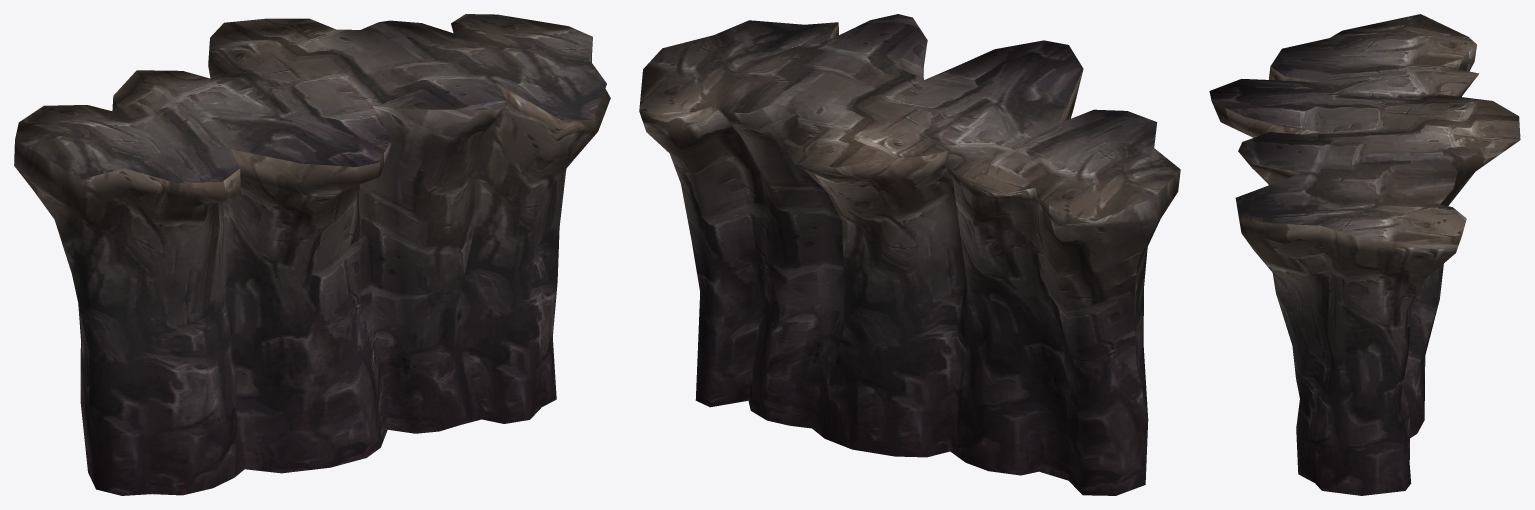
The model's file is environment_stone_qiaobi_002_e.FBX.
3 renders of one model, left to right at view 1: azimuth 30°, elevation 25°; view 2: azimuth 150°, elevation 25°; view 3: azimuth 270°, elevation 25°, orthographic. The views are drawn at different scales.
Visible parts, largest first — view 1: environment_stone_qiaobi_002_e; view 2: environment_stone_qiaobi_002_e; view 3: environment_stone_qiaobi_002_e.
Part boxes in pixels (bbox=[...]): environment_stone_qiaobi_002_e: bbox=[14, 14, 610, 495]; environment_stone_qiaobi_002_e: bbox=[639, 14, 1180, 495]; environment_stone_qiaobi_002_e: bbox=[1209, 14, 1520, 495].
Size of the model in its own units: 540 by 336 by 319.
1 material, 1 textured.
